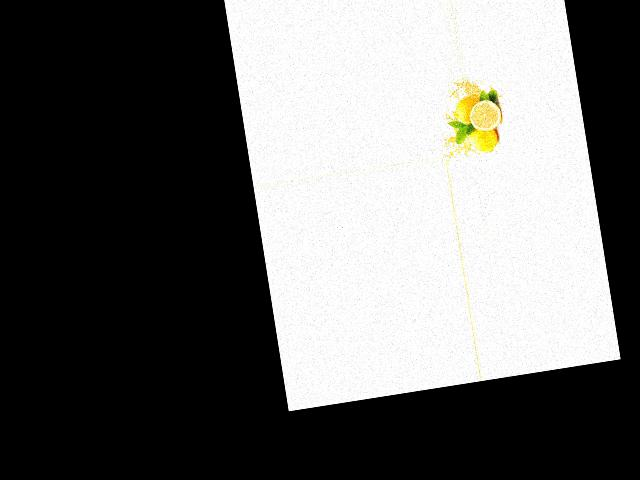lemon: (464, 119, 500, 154)
